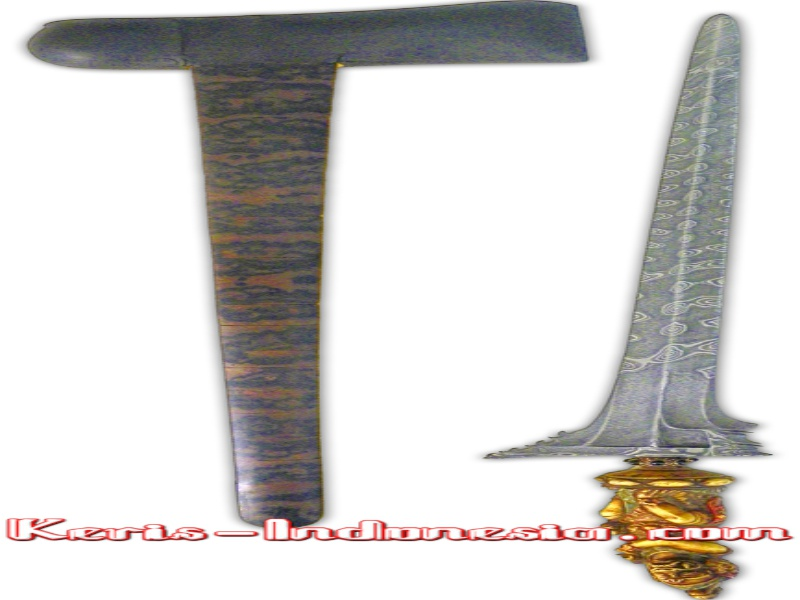knife: (478, 10, 771, 600)
